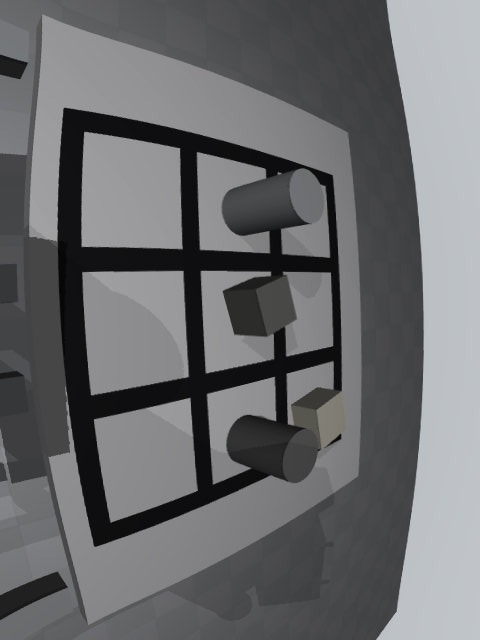can: (221, 168, 324, 236)
cube: (223, 275, 297, 336)
cylinder: (226, 415, 318, 483)
foam: (291, 387, 346, 450)
